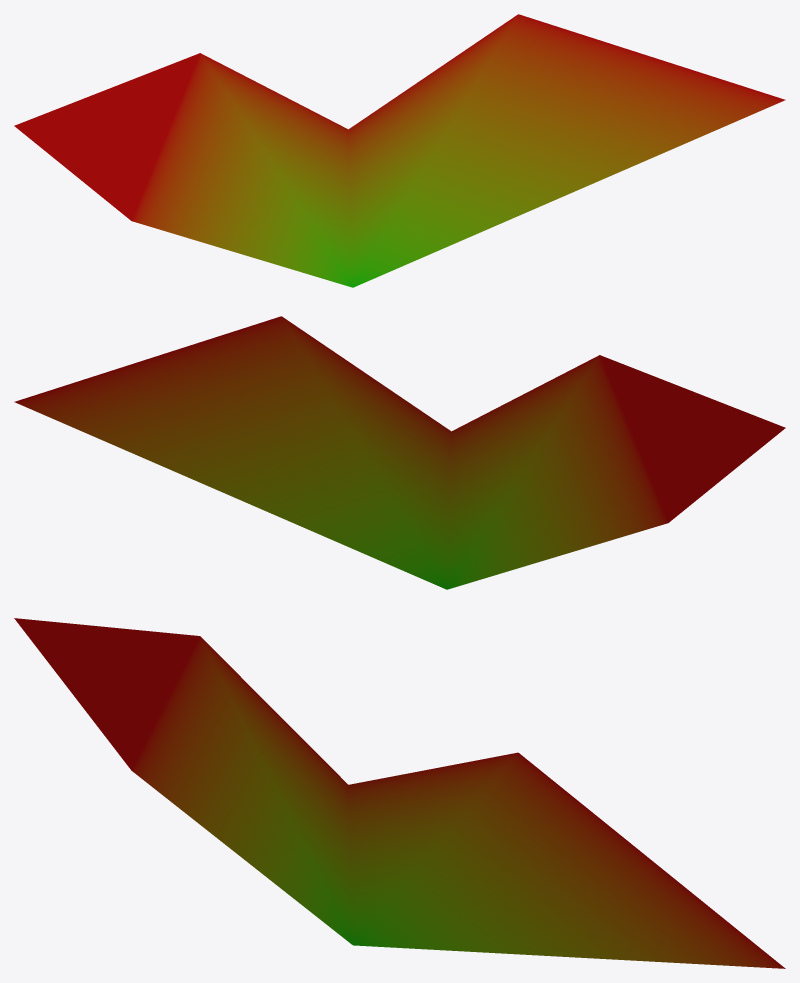
Rendered from Var19_LOD3.fbx.
The picture shows the model from 3 angles, top to bottom: view 1: azimuth 30°, elevation 25°; view 2: azimuth 150°, elevation 25°; view 3: azimuth 330°, elevation 25°; orthographic projection.
Visible parts, largest first — view 1: _4jmy_Var19_LOD3; view 2: _4jmy_Var19_LOD3; view 3: _4jmy_Var19_LOD3.
Part boxes in pixels (bbox=[...]): _4jmy_Var19_LOD3: bbox=[14, 14, 785, 287]; _4jmy_Var19_LOD3: bbox=[14, 316, 785, 589]; _4jmy_Var19_LOD3: bbox=[14, 618, 785, 968].
Size of the model in its own units: 31.75 by 10.69 by 3.47e-09.
